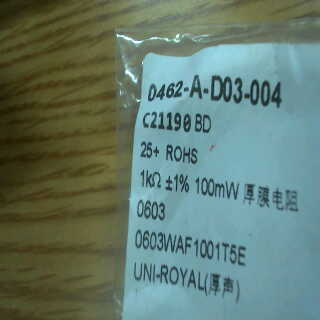1kR: (133, 168, 163, 197)
